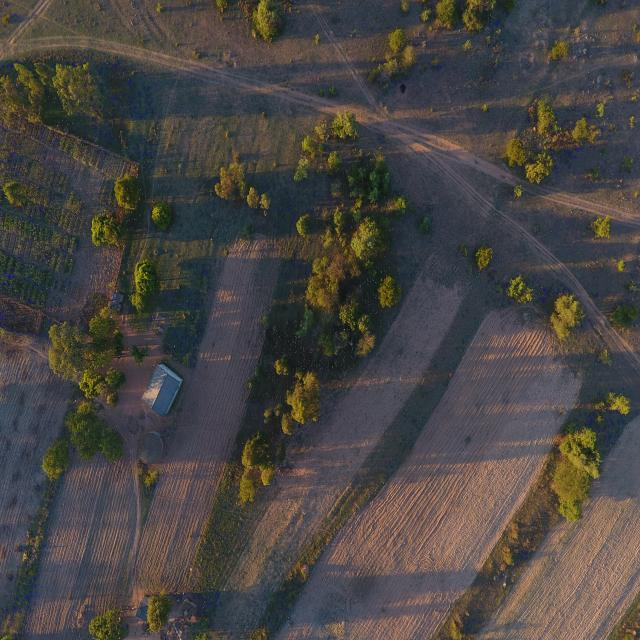boundaries: (342, 400, 434, 526)
